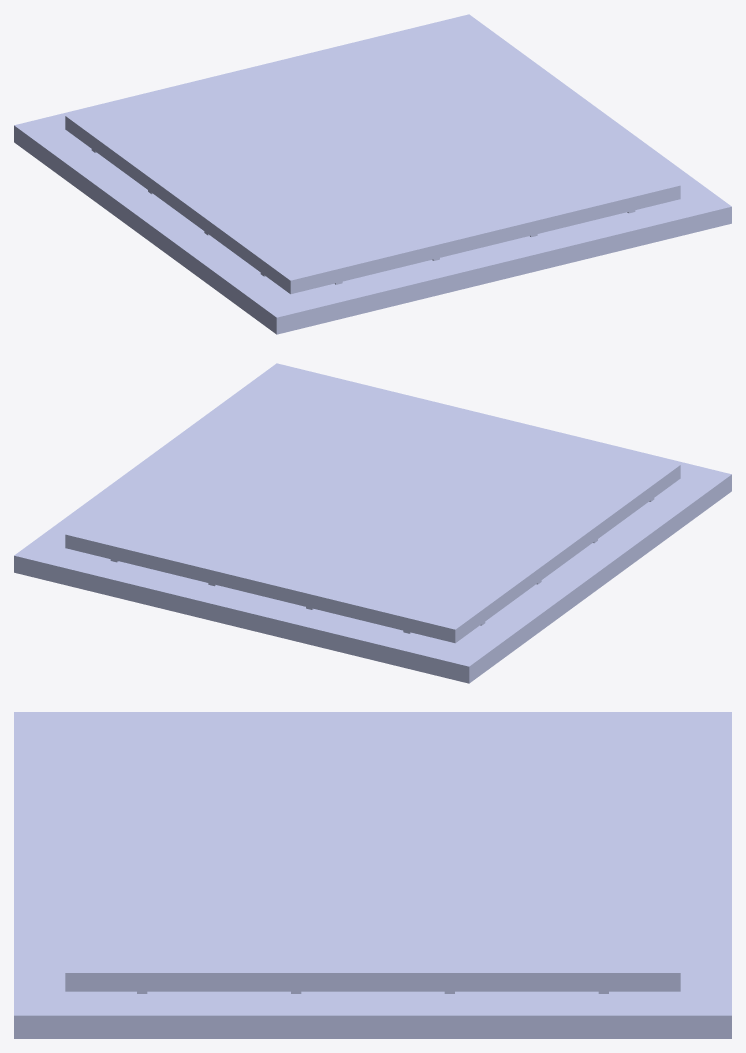
Rendered from ocr_sudoku.gltf.
3 renders of one model, top to bottom at view 1: azimuth 30°, elevation 25°; view 2: azimuth 150°, elevation 25°; view 3: azimuth 270°, elevation 25°, orthographic. The views are drawn at different scales.
Parts seen in each view (by area): view 1: ocr_sudoku; view 2: ocr_sudoku; view 3: ocr_sudoku.
Part boxes in pixels (left/top/right/bottom): ocr_sudoku: left=14, top=14, right=731, bottom=334; ocr_sudoku: left=14, top=363, right=731, bottom=683; ocr_sudoku: left=14, top=712, right=731, bottom=1038.
Size of the model in its own units: 1.4 by 0.095 by 1.4.
